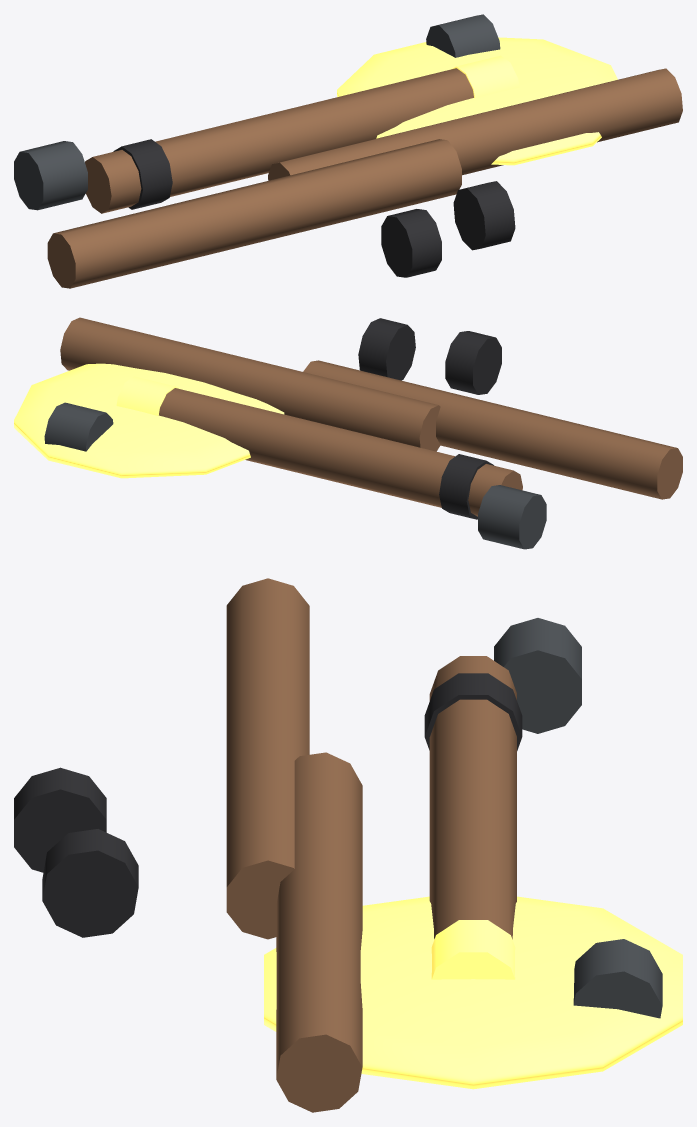
The model's file is fps-survival-forest-outpost-signal-flare-c4560270__32679.glb.
3 renders of one model, top to bottom at view 1: azimuth 30°, elevation 25°; view 2: azimuth 150°, elevation 25°; view 3: azimuth 270°, elevation 25°, orthographic. The views are drawn at different scales.
Parts seen in each view (by area): view 1: signal-flare; view 2: signal-flare; view 3: signal-flare.
Part boxes in pixels (x1,y1,x2,y2): signal-flare: [14, 14, 682, 288]; signal-flare: [14, 317, 682, 549]; signal-flare: [14, 578, 682, 1112].
Bounding box in the file's own units: 0.42 × 0.038 × 0.2605.
